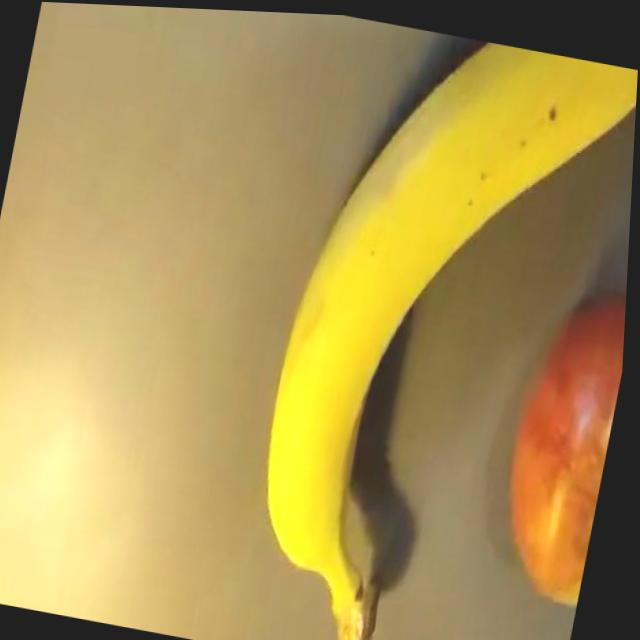Apple: (491, 272, 630, 605)
Banana: (235, 11, 640, 640)
